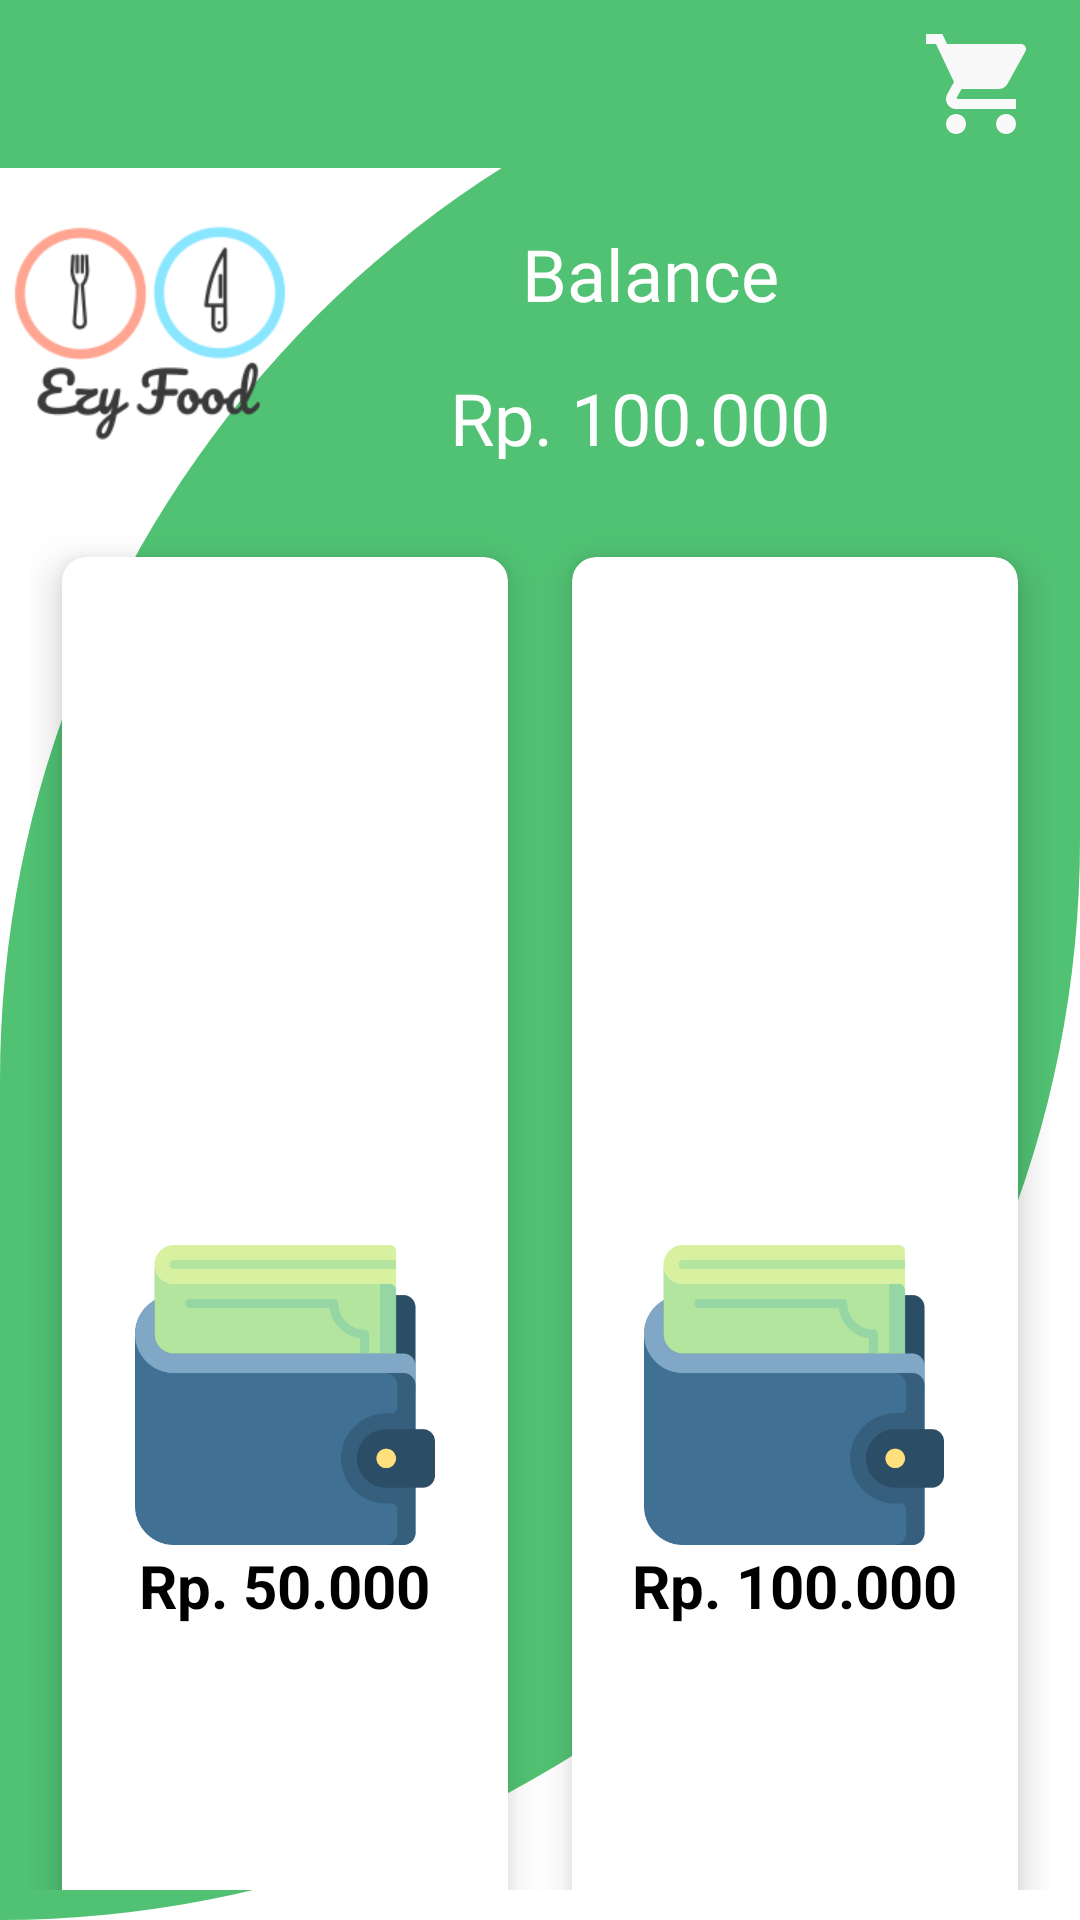

Where to tap for icons on this 1080×1920 app screen, as [x,y]:
cart: [976,84]
wallet: [285,1395], [794,1395]
